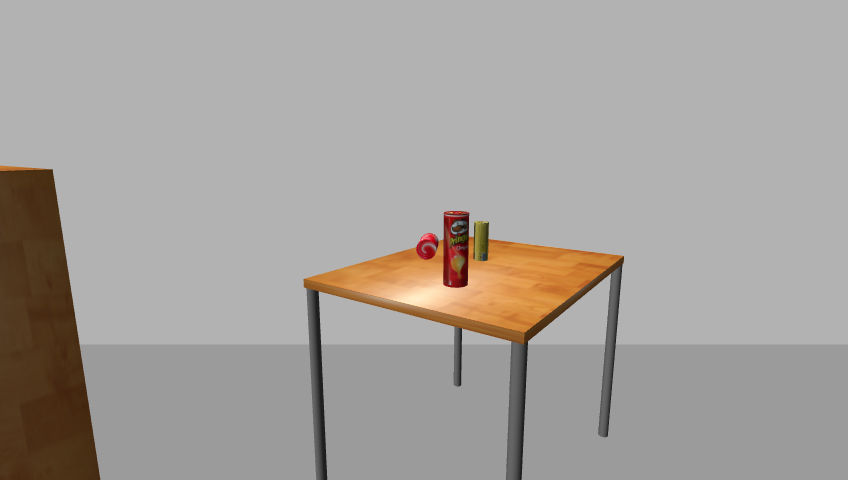biscuits pack: (472, 220, 491, 263)
bookshelf: (0, 167, 108, 477)
coke can: (414, 233, 440, 262)
dinner table: (295, 237, 634, 479)
pringles can: (441, 211, 471, 290)
